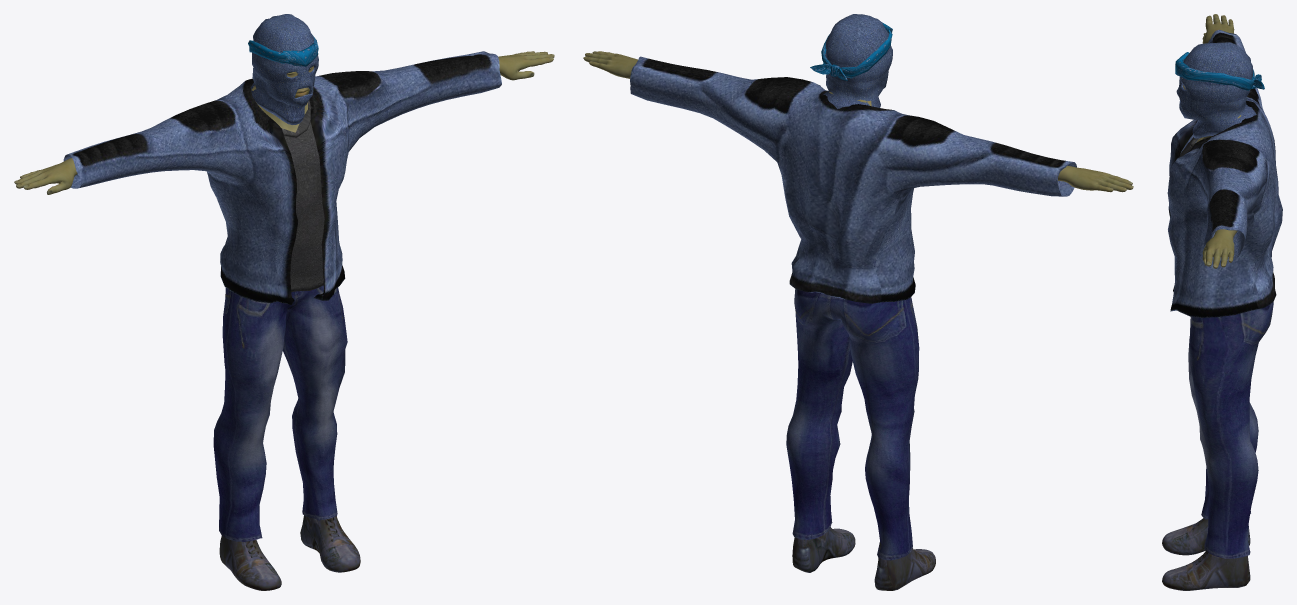
The model's file is Ladron_ninja.fbx.
3 renders of one model, left to right at view 1: azimuth 30°, elevation 25°; view 2: azimuth 150°, elevation 25°; view 3: azimuth 270°, elevation 25°, orthographic. The views are drawn at different scales.
Parts seen in each view (by area): view 1: chaqueta.002, cuerpo.002; view 2: chaqueta.002, cuerpo.002; view 3: chaqueta.002, cuerpo.002.
Boxes of the visible parts, box(x1,y1,x2,y2) form: chaqueta.002: box(63, 14, 501, 590); cuerpo.002: box(14, 27, 554, 194); chaqueta.002: box(630, 14, 1076, 590); cuerpo.002: box(583, 29, 1133, 192); chaqueta.002: box(1162, 29, 1282, 590); cuerpo.002: box(1183, 14, 1242, 268).
Bounding box in the file's own units: 183 × 176 × 36.95.
